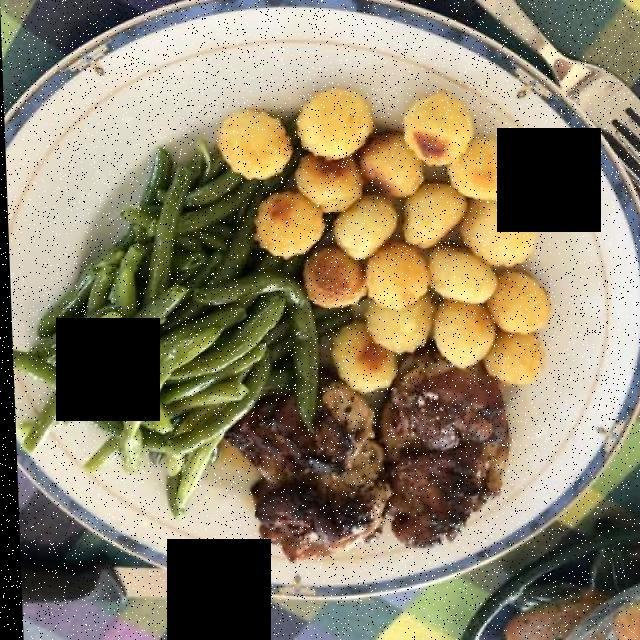beans: (22, 150, 331, 521)
chicken-breast: (234, 352, 507, 562)
